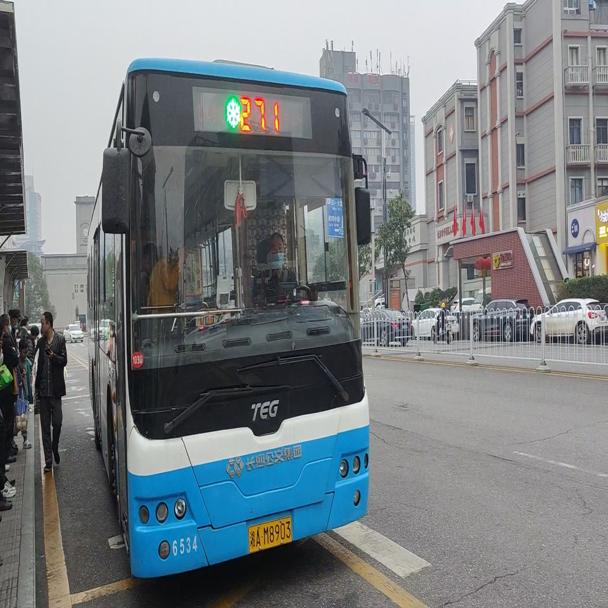bus: (84, 54, 372, 580)
screen: (238, 85, 284, 131)
